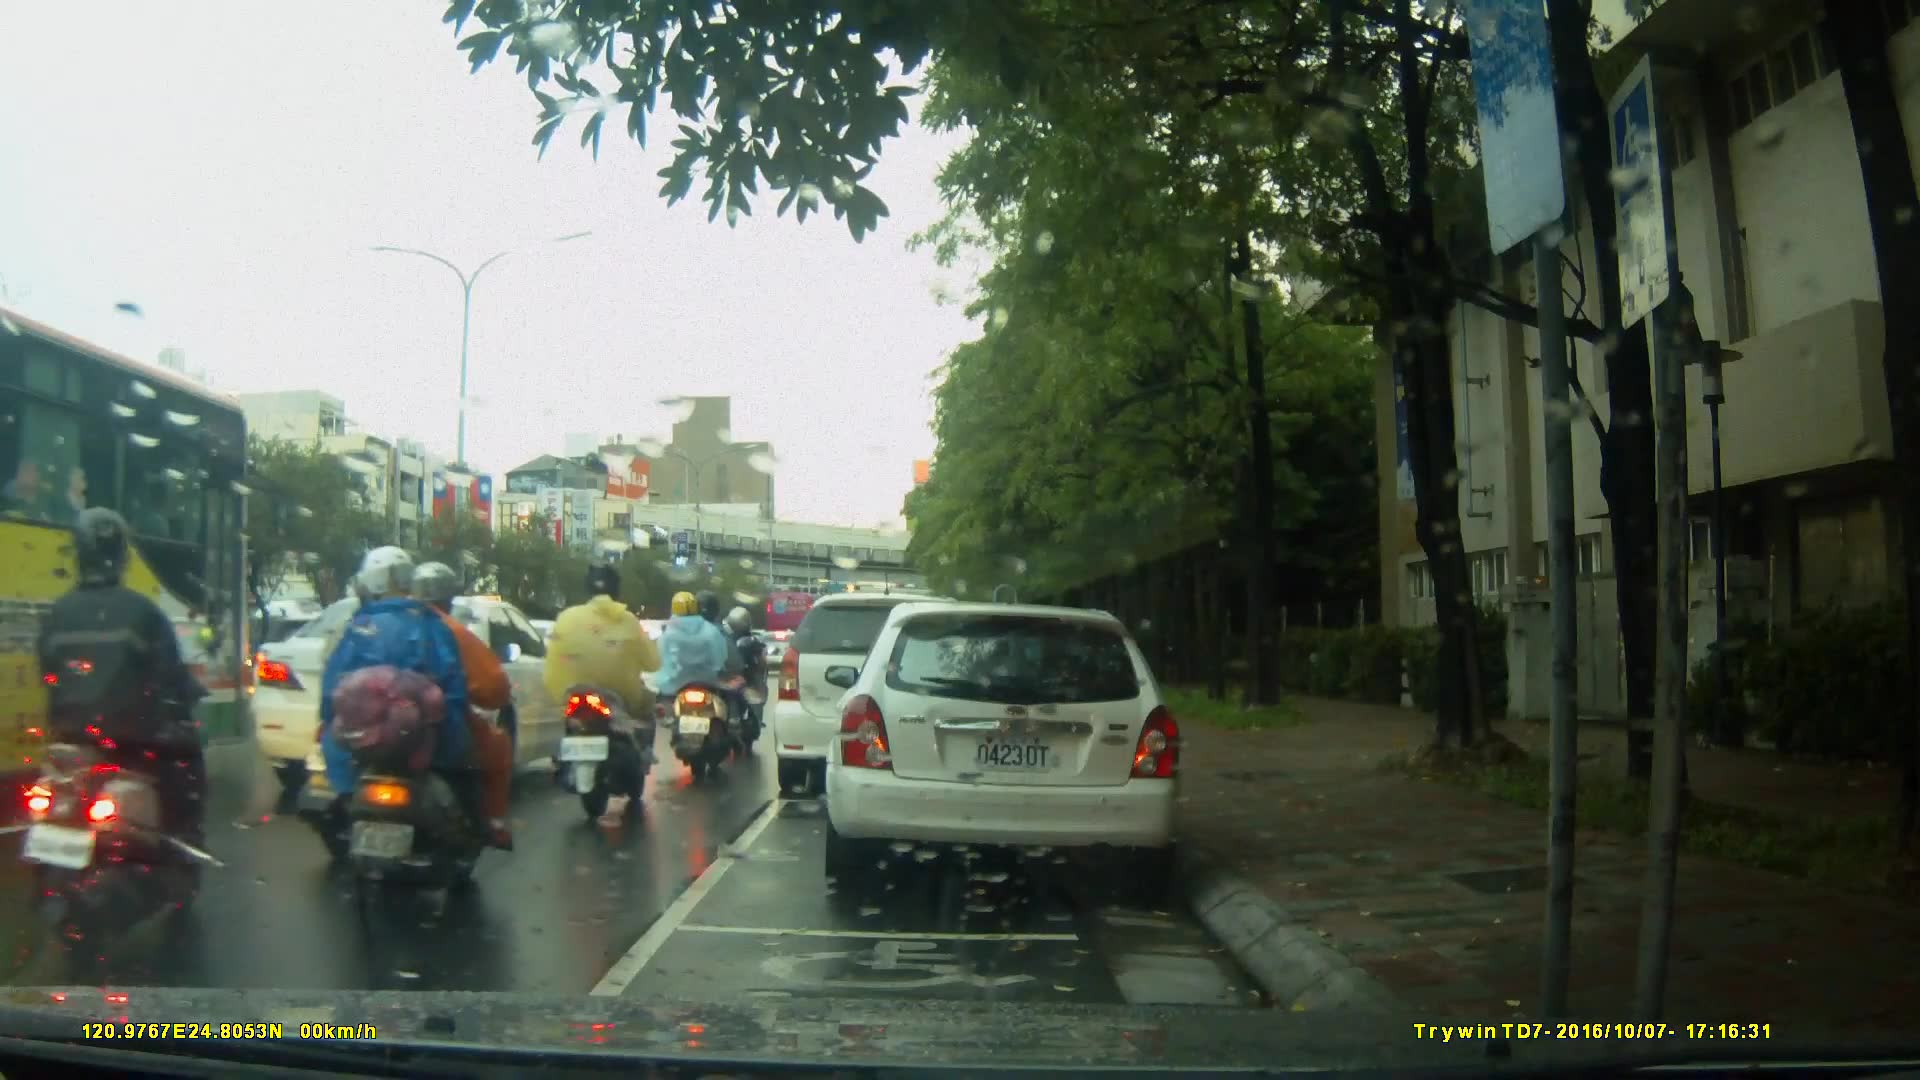rider: (13, 508, 210, 938), (314, 551, 526, 897), (525, 558, 658, 815), (664, 582, 734, 759), (705, 608, 769, 757)
vehicle: (1, 301, 264, 826), (835, 594, 1194, 898), (250, 593, 594, 809), (776, 590, 1026, 784)
